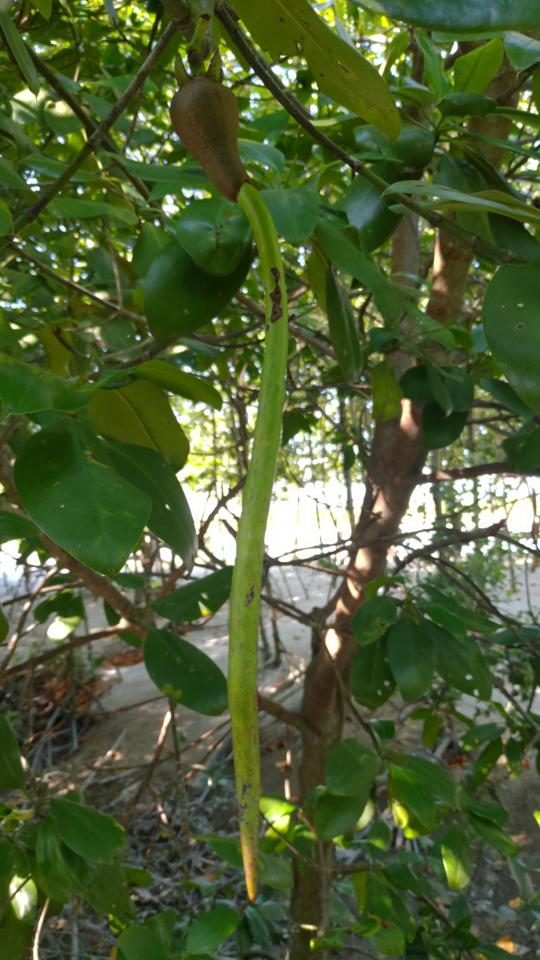mentah: (145, 47, 315, 911)
